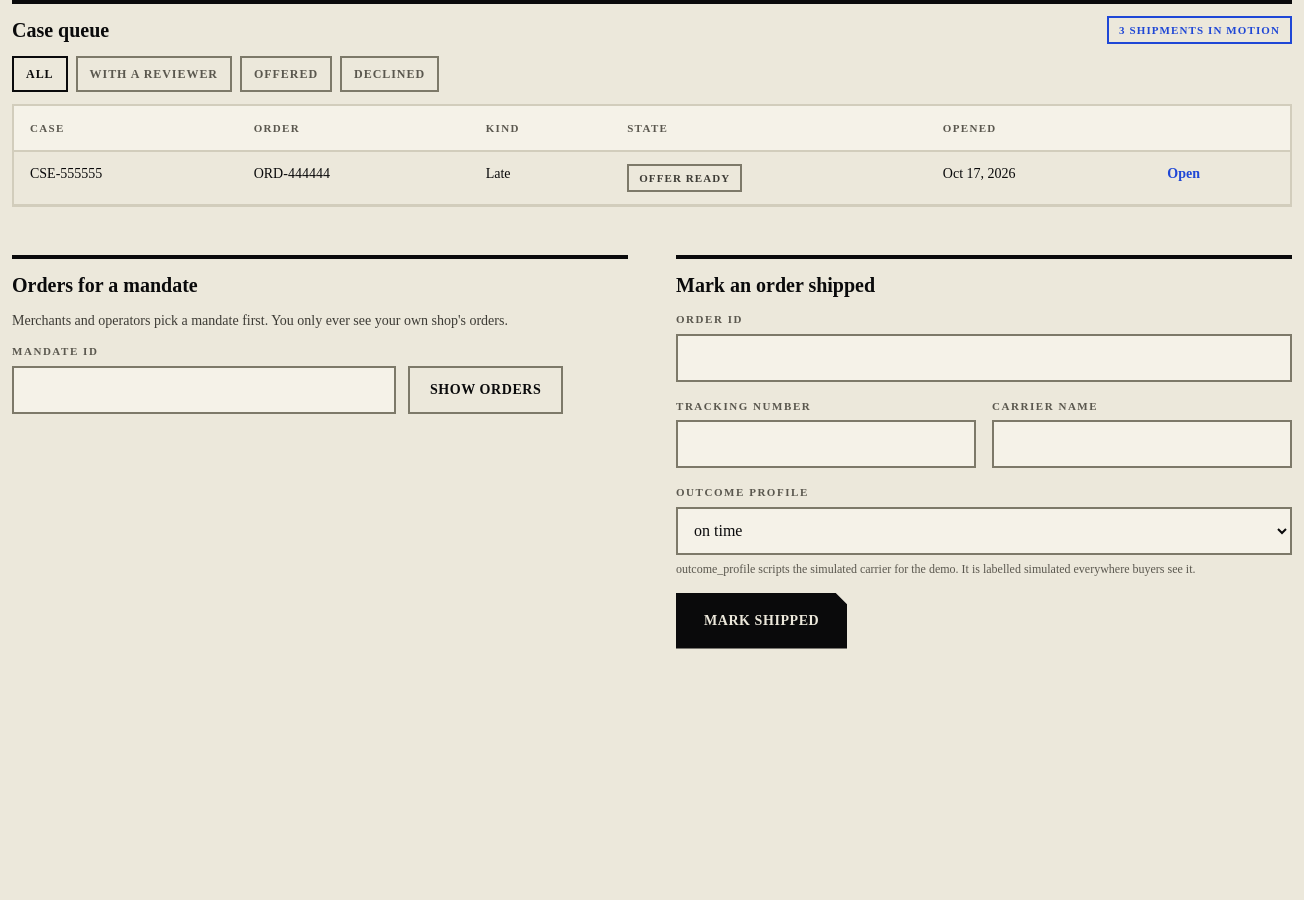
Test: MerchantDesk › checks the ship form and explains an unpaid order
The width and height of the screenshot is (1304, 900).
Click the button "Mark shipped" at (762, 620), box left=676, top=592, right=847, bottom=648
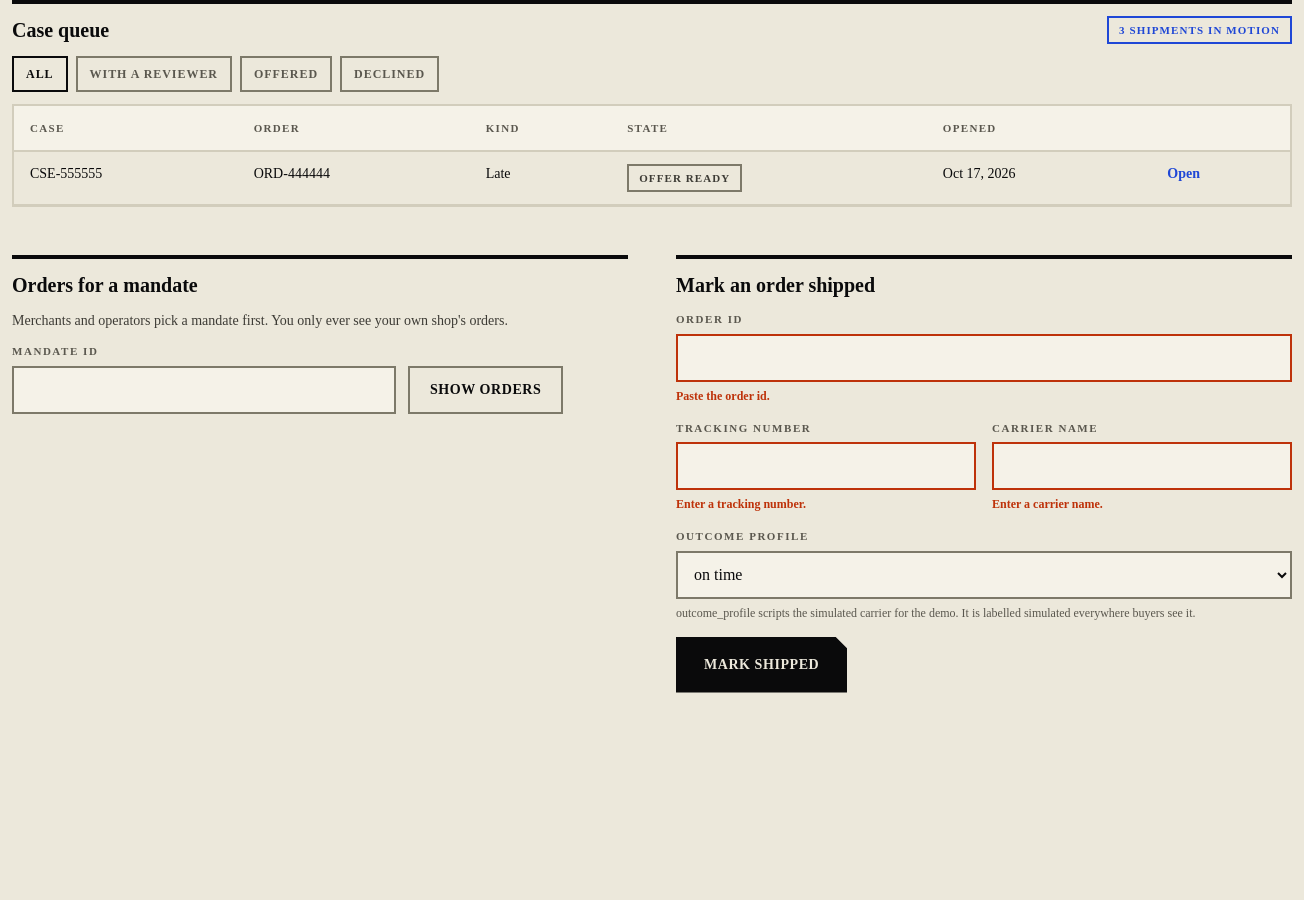
expect the text "Paste the order id." is shown: met, box left=676, top=388, right=770, bottom=402
expect the text "Enter a tracking number." is shown: met, box left=676, top=497, right=806, bottom=511
Type "44444444-4444-4444-8444-444444444444" into the field labelled "Order id" at (984, 358), box left=676, top=334, right=1292, bottom=382
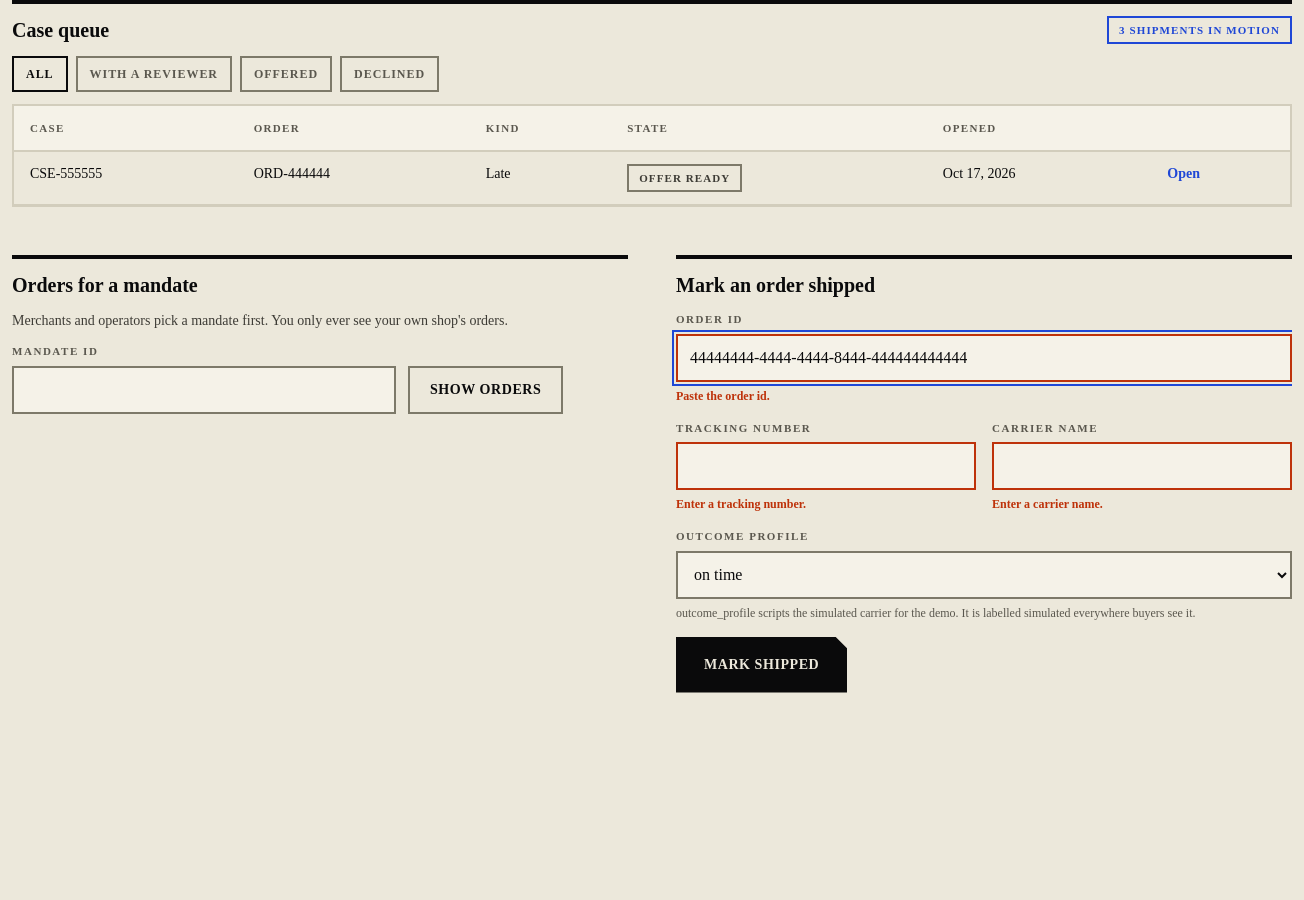
Type "T" into the field labelled "Tracking number" at (826, 466), box left=676, top=442, right=976, bottom=490
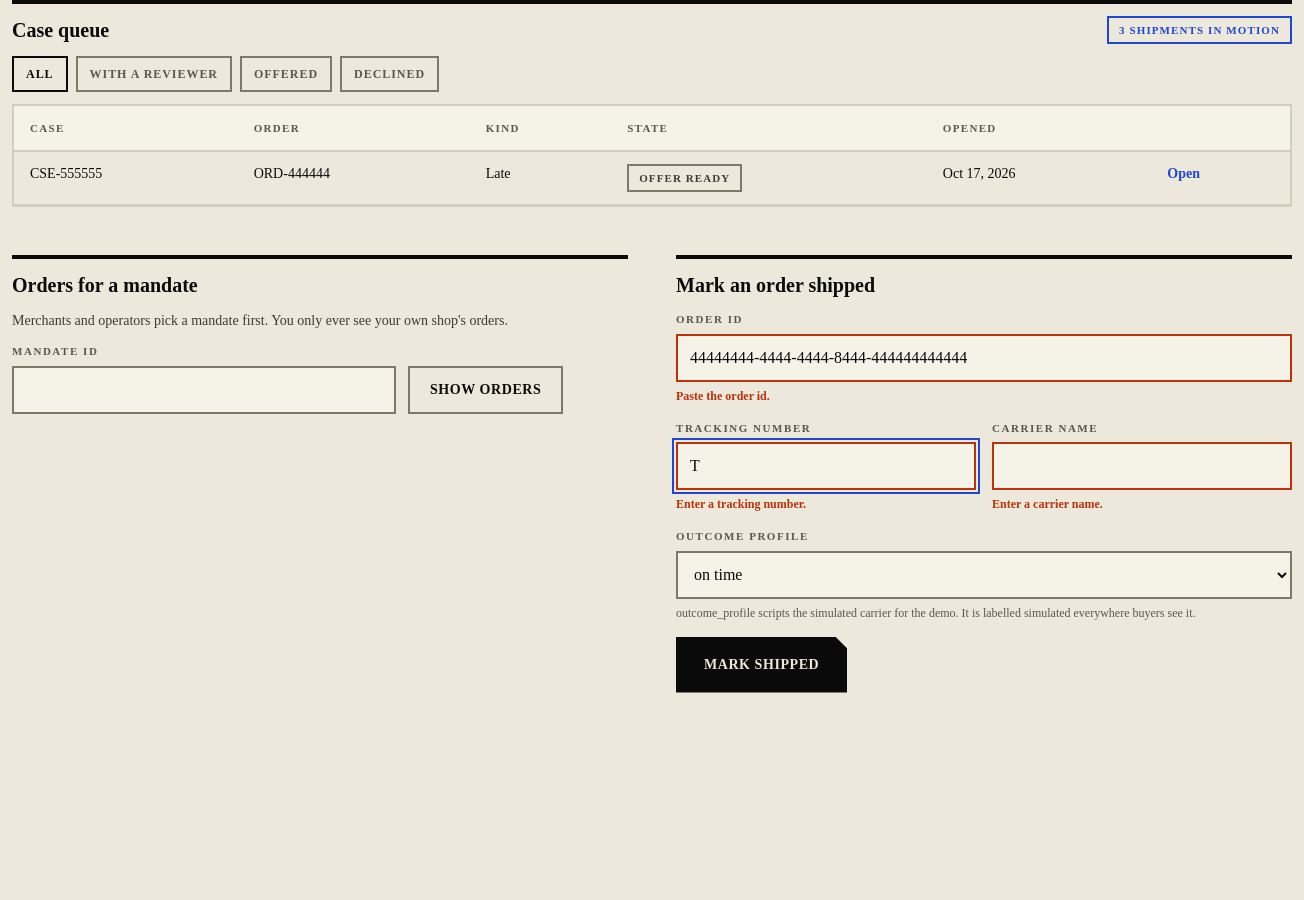
Type "C" into the field labelled "Carrier name" at (1142, 466), box left=992, top=442, right=1292, bottom=490
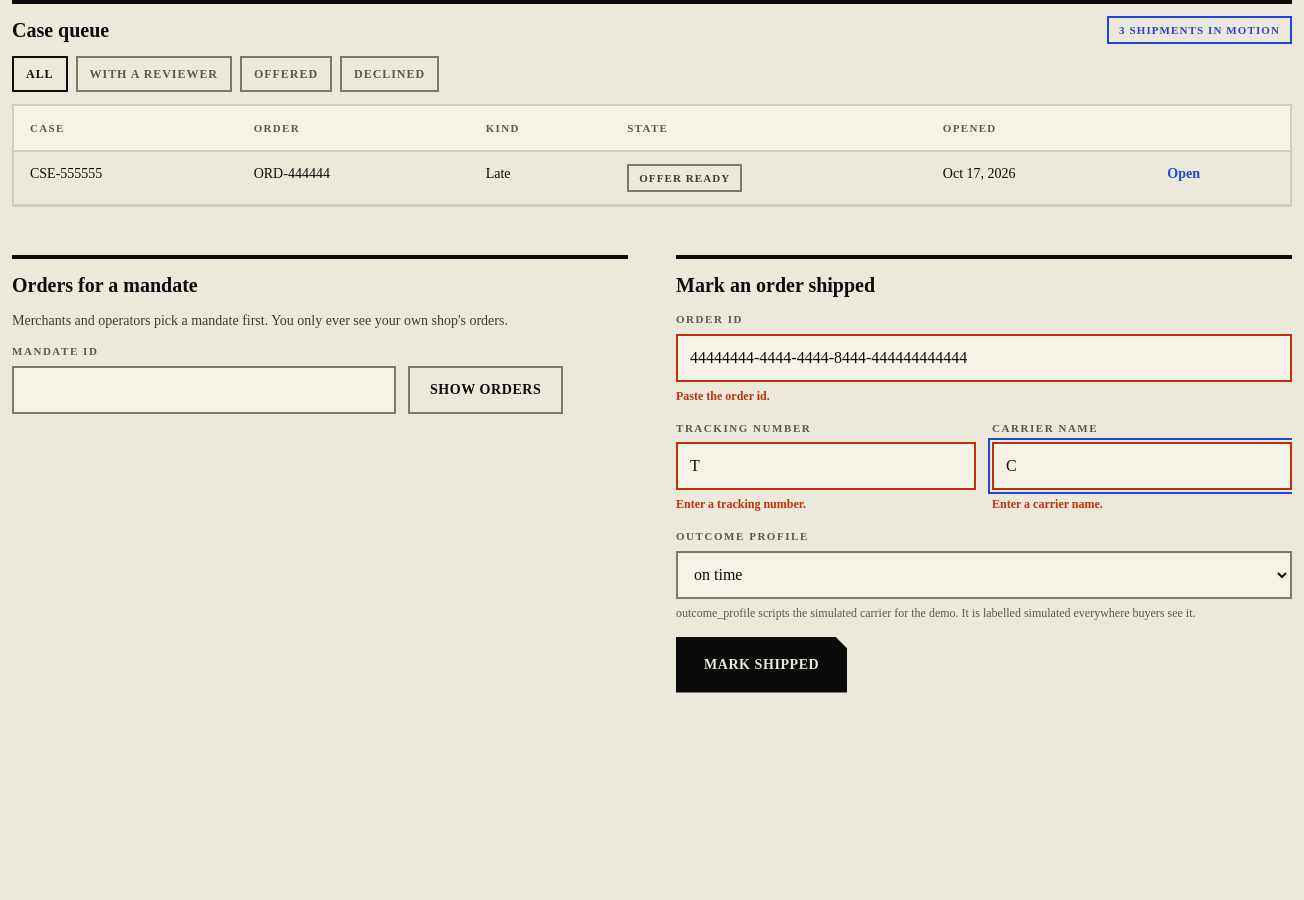
Click the button "Mark shipped" at (762, 664), box left=676, top=636, right=847, bottom=692
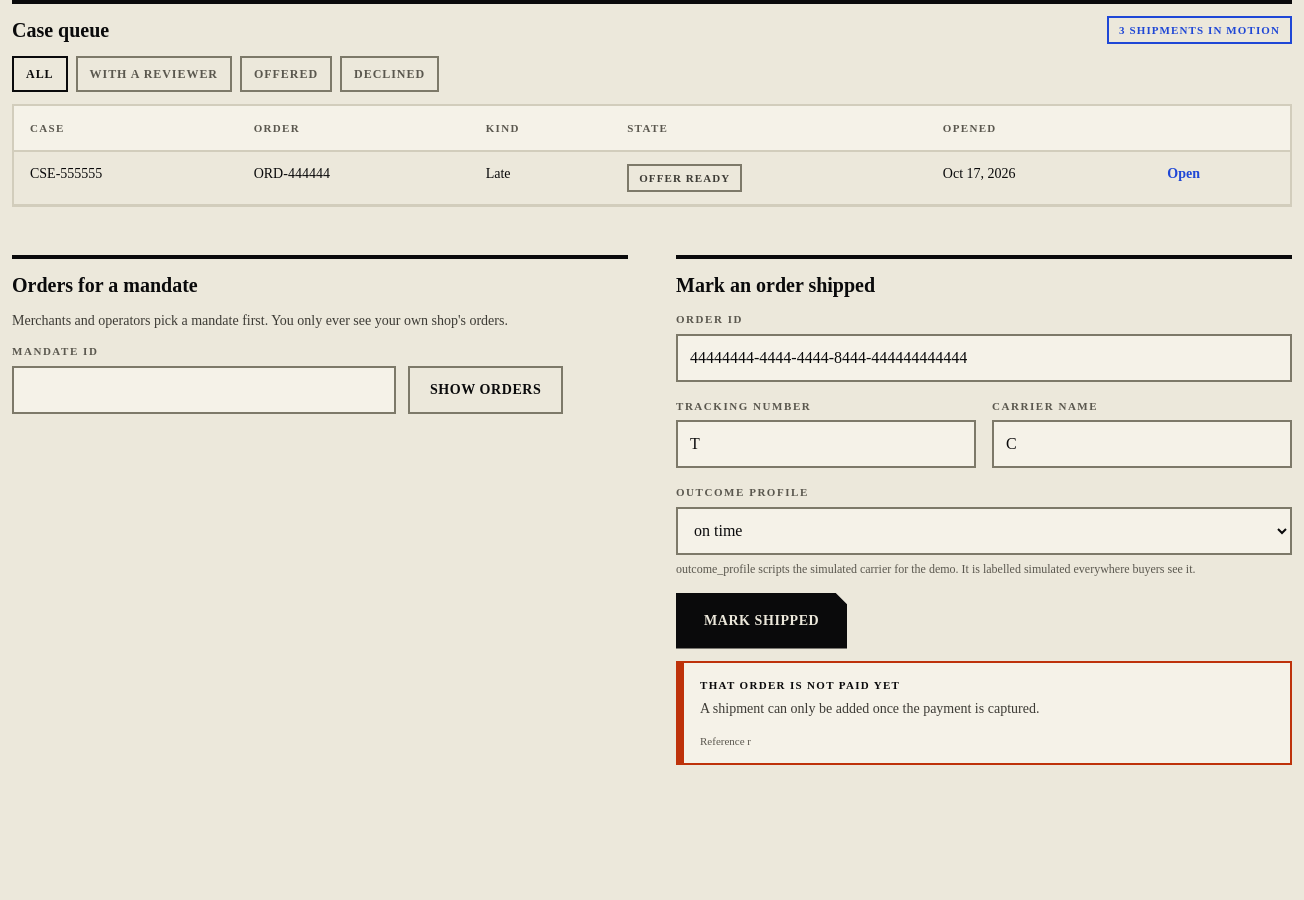
expect the text "That order is not paid yet" is shown: met, box left=700, top=678, right=900, bottom=690
